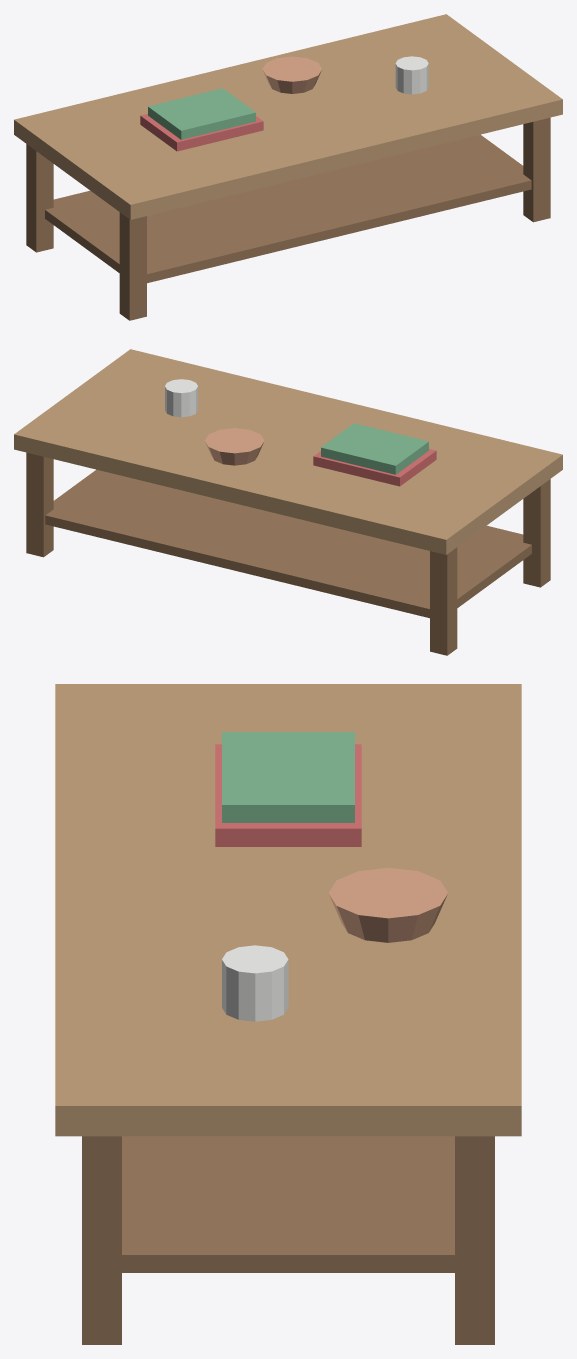
The model's file is coffee_table.glb.
3 renders of one model, top to bottom at view 1: azimuth 30°, elevation 25°; view 2: azimuth 150°, elevation 25°; view 3: azimuth 270°, elevation 25°, orthographic. The views are drawn at different scales.
Visible parts, largest first — view 1: coffee_table; view 2: coffee_table; view 3: coffee_table.
Boxes of the visible parts, x1,y1,x2,y2 form: coffee_table: (14, 14, 562, 320); coffee_table: (14, 349, 562, 655); coffee_table: (55, 684, 521, 1344).
Bounding box in the file's own units: 1.5 × 0.485 × 0.7.
